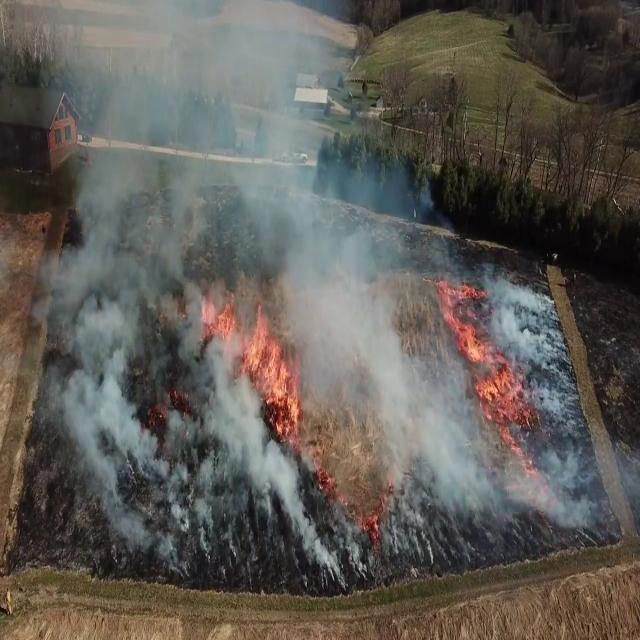Fire: (434, 290, 524, 440), (240, 290, 302, 448)
Smoke: (26, 0, 360, 575), (333, 213, 554, 542)
